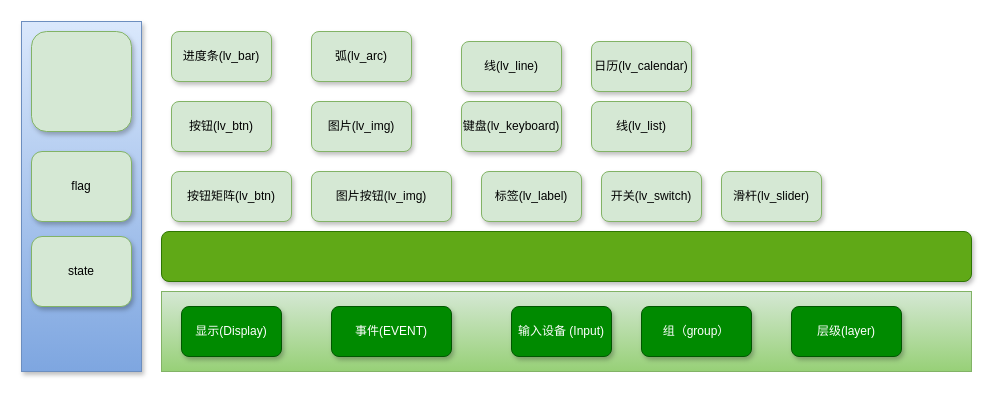
Image size: 995x396. Some labels were removed from this diagram. Each missing label, with the centre of its shape:
对象（lv_obj）: the point at 567,257
风格(style): the point at 82,82
